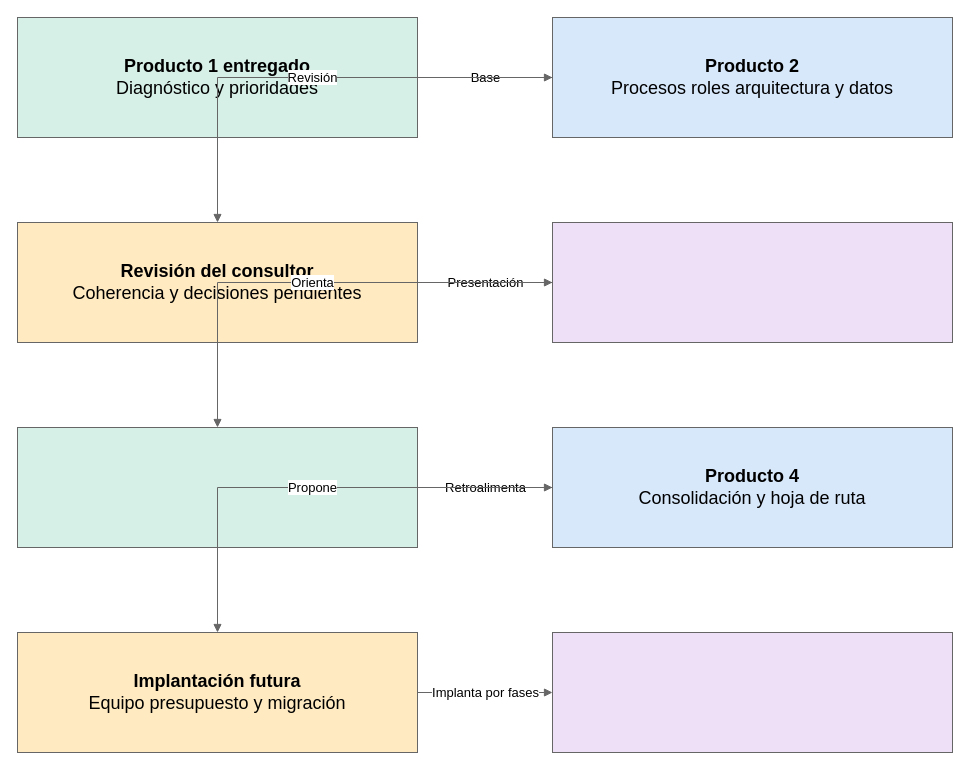
This 970x770 diagram has some shape labels left out. The centre of each missing label's shape, as x and y in pixels:
"Producto 3 Planes valorados y prueba integrada" goes at point (217, 487).
"Sistema maestro Operación integrada y mejora continua" goes at point (752, 692).
"Validación del GLF Pronunciamientos y aprobación escrita" goes at point (752, 282).
